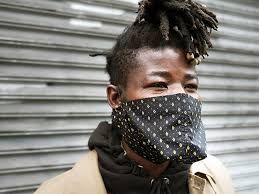with-mask: (95, 28, 214, 171)
